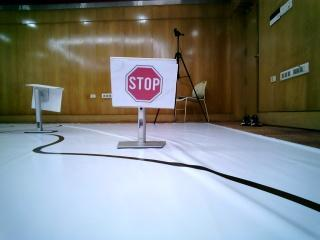stop: (116, 60, 172, 107)
